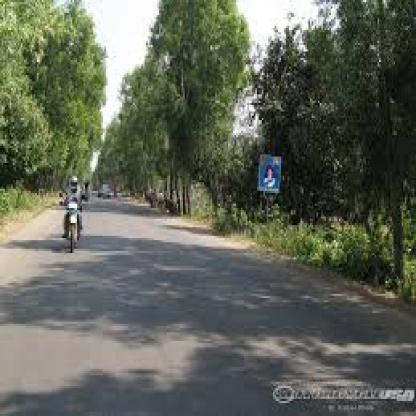car: (59, 165, 93, 257), (90, 175, 121, 210)
